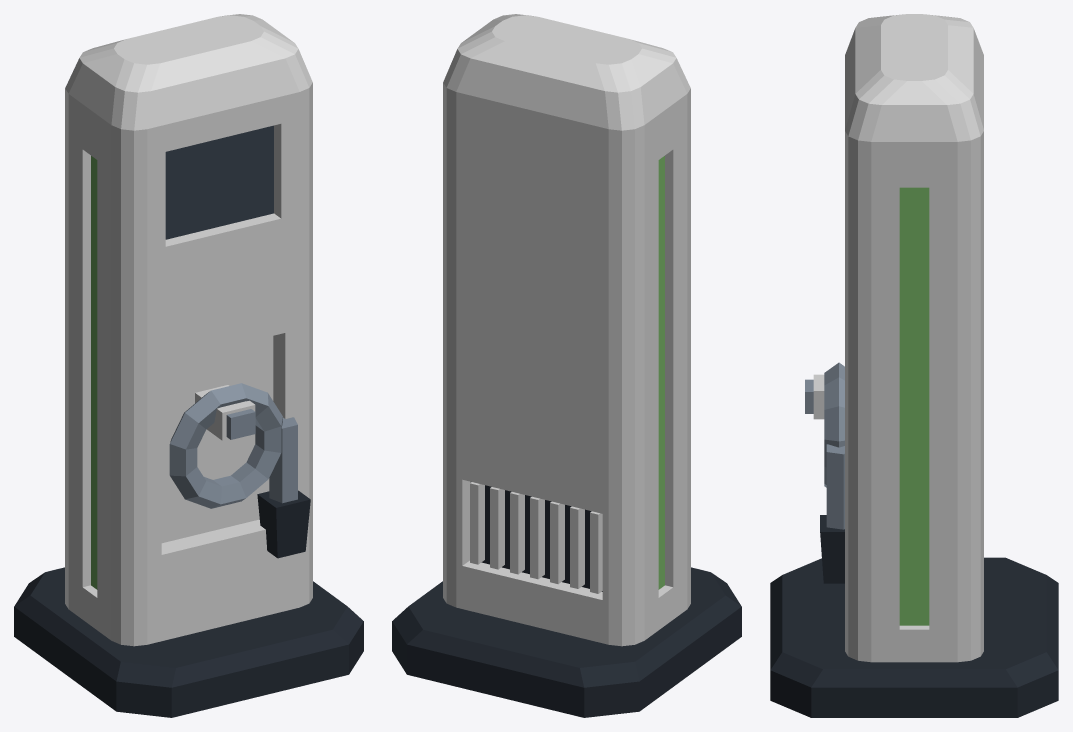
File: vehicle-charging-post-45cbb8.glb
3 renders of one model, left to right at view 1: azimuth 30°, elevation 25°; view 2: azimuth 150°, elevation 25°; view 3: azimuth 270°, elevation 25°, orthographic.
Parts seen in each view (by area): view 1: post, plug-body; view 2: post; view 3: post, plug-body.
Part boxes in pixels (box(x1,y1,x2,y2)): post: box(14, 14, 363, 717); plug-body: box(257, 490, 310, 558); post: box(392, 14, 741, 717); post: box(770, 14, 1058, 717); plug-body: box(820, 515, 844, 583).
Bounding box in the file's own units: 0.6 × 1.4 × 0.6.
